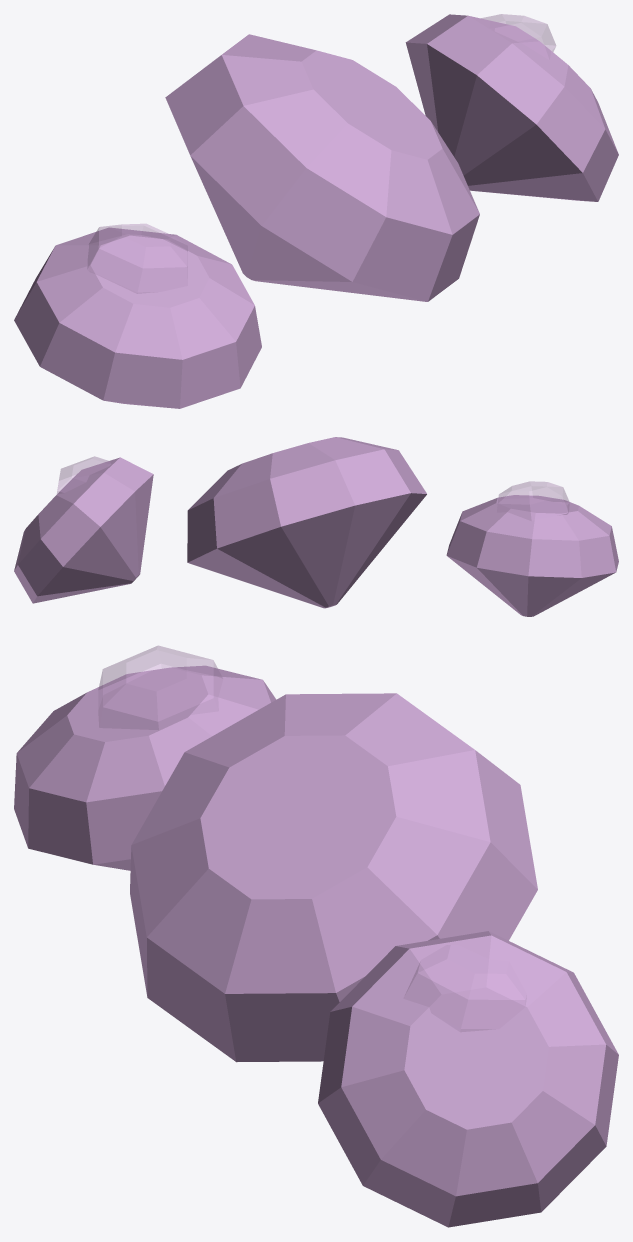
3 renders of one model, top to bottom at view 1: azimuth 30°, elevation 25°; view 2: azimuth 150°, elevation 25°; view 3: azimuth 270°, elevation 25°, orthographic. The views are drawn at different scales.
Visible parts, largest first — view 1: TI030 / individually faceted stone 1, TI030 / individually faceted stone 0, TI030 / individually faceted stone 2, TI030 / inclusion colour facet, TI030 / inclusion colour facet.002; view 2: TI030 / individually faceted stone 1, TI030 / individually faceted stone 0, TI030 / individually faceted stone 2, TI030 / inclusion colour facet, TI030 / inclusion colour facet.002; view 3: TI030 / individually faceted stone 1, TI030 / individually faceted stone 2, TI030 / individually faceted stone 0, TI030 / inclusion colour facet, TI030 / inclusion colour facet.002.
Boxes of the visible parts, box(x1,y1,x2,y2) form: TI030 / individually faceted stone 1: box(165, 34, 479, 301); TI030 / individually faceted stone 0: box(14, 227, 261, 408); TI030 / individually faceted stone 2: box(405, 14, 618, 201); TI030 / inclusion colour facet: box(87, 223, 187, 293); TI030 / inclusion colour facet.002: box(481, 14, 556, 59); TI030 / individually faceted stone 1: box(187, 437, 426, 608); TI030 / individually faceted stone 0: box(446, 495, 618, 616); TI030 / individually faceted stone 2: box(14, 457, 153, 603); TI030 / inclusion colour facet: box(497, 481, 569, 520); TI030 / inclusion colour facet.002: box(57, 456, 110, 493); TI030 / individually faceted stone 1: box(130, 693, 537, 1062); TI030 / individually faceted stone 2: box(318, 931, 618, 1227); TI030 / individually faceted stone 0: box(14, 665, 276, 870); TI030 / inclusion colour facet: box(98, 645, 222, 729); TI030 / inclusion colour facet.002: box(404, 945, 526, 1031).
Size of the model in its own units: 2.54 by 0.8889 by 1.57.
